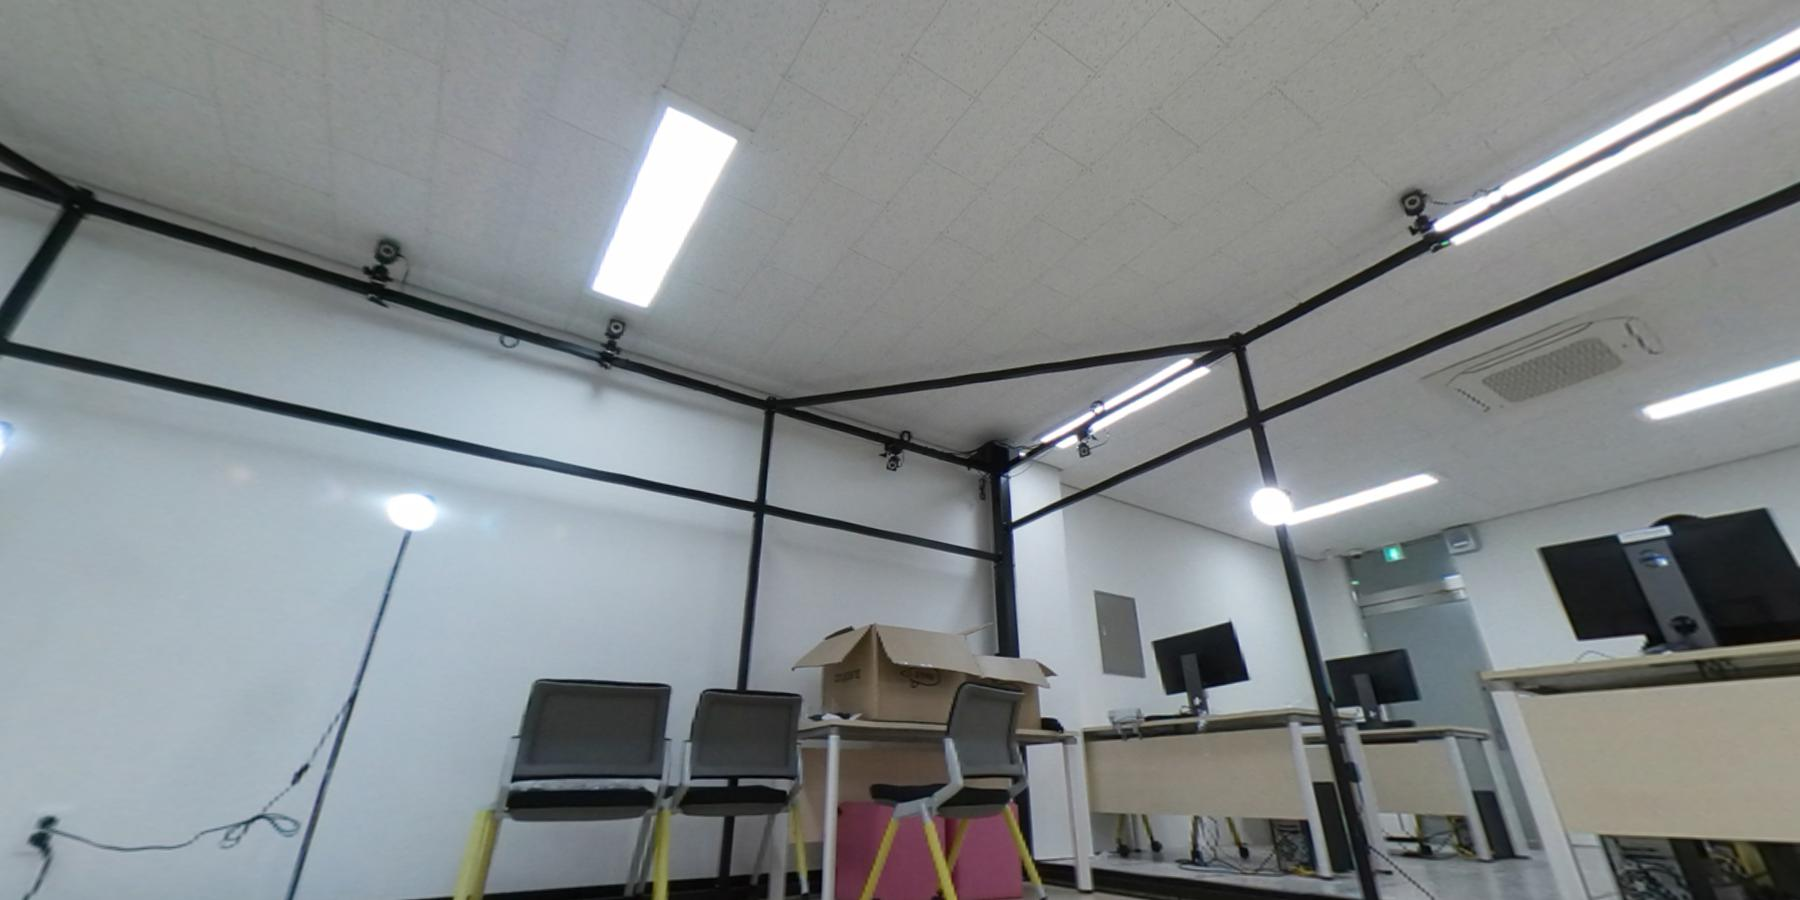SpotLight1: (385, 492, 440, 532)
